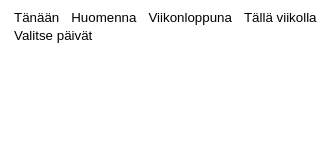
Test: should close date selector menu with close button
Click the button "Valitse päivät": (53, 36) [8, 27, 98, 44]
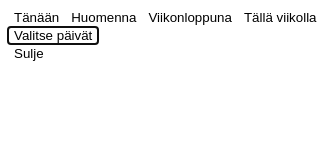
Expected: the element with test id "mobile-date-selector-menu" is shown
Click the button "Sulje": (29, 54) [8, 45, 50, 62]
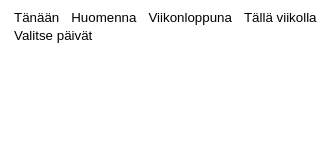
Expected: the element with test id "mobile-date-selector-menu" is gone
